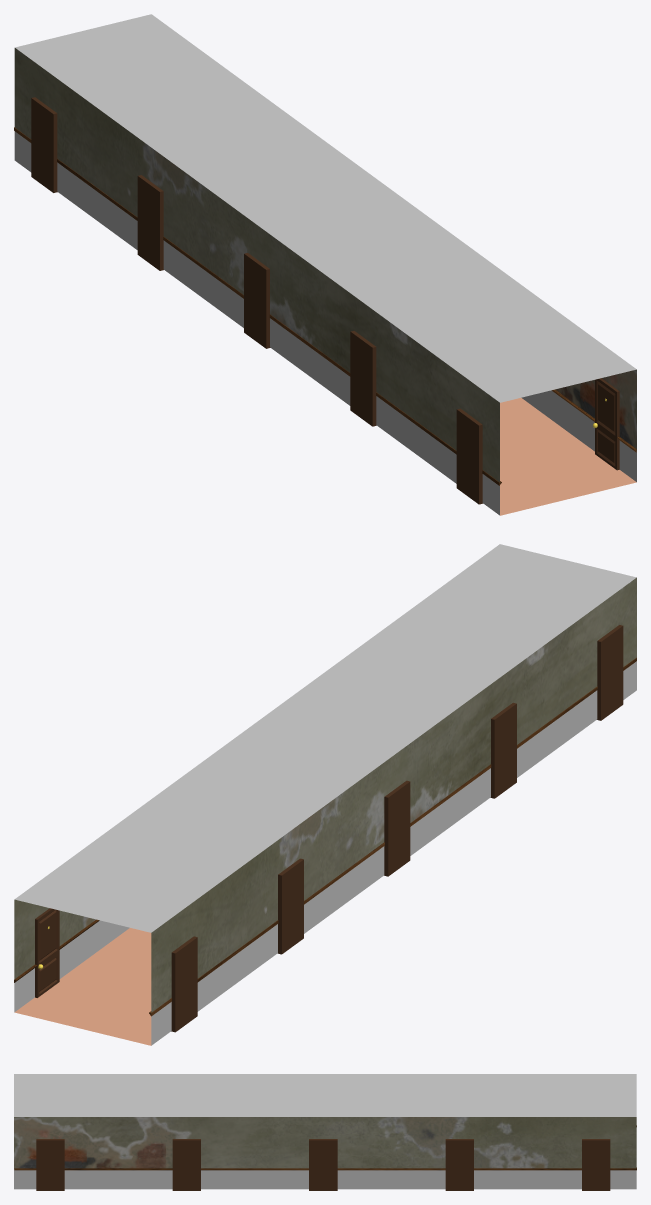
File: duzkoridor2.fbx
The picture shows the model from 3 angles, top to bottom: view 1: azimuth 30°, elevation 25°; view 2: azimuth 150°, elevation 25°; view 3: azimuth 270°, elevation 25°; orthographic projection. The views are drawn at different scales.
Parts seen in each view (by area): view 1: düzkoridor; view 2: düzkoridor; view 3: düzkoridor.
Boxes of the visible parts, x1=… form: düzkoridor: x1=14, y1=14, x2=636, y2=515; düzkoridor: x1=14, y1=544, x2=636, y2=1045; düzkoridor: x1=14, y1=1074, x2=636, y2=1190.
Size of the model in its own units: 422 by 317 by 2459.
